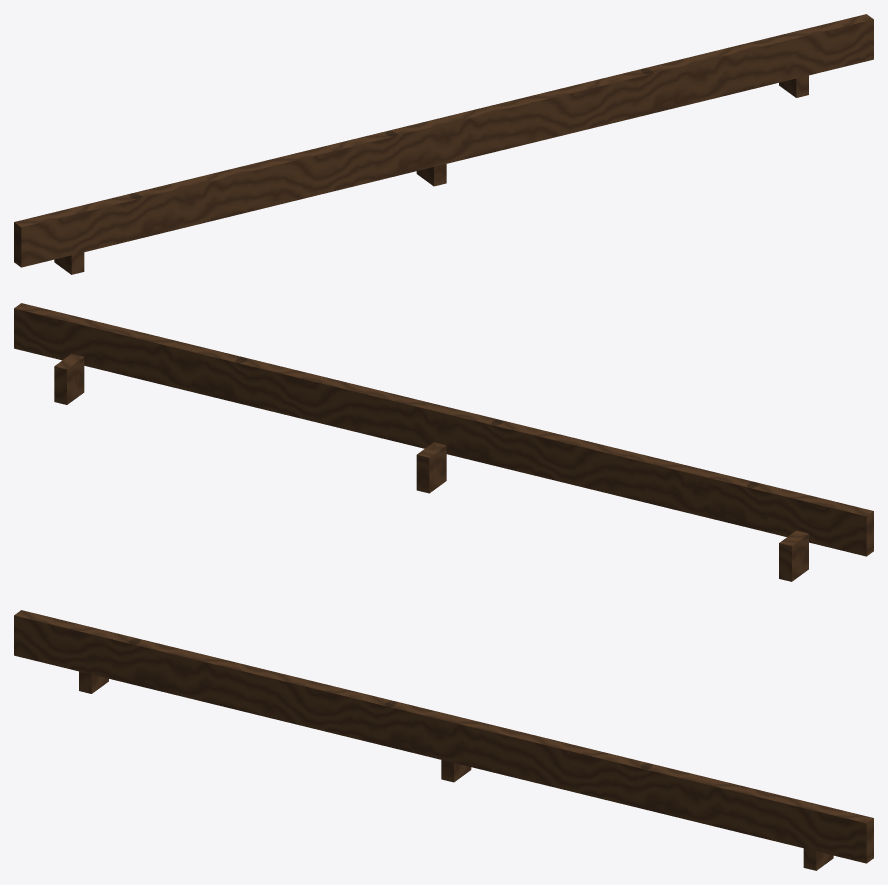
File: eave_trim_4m.glb
The picture shows the model from 3 angles, top to bottom: view 1: azimuth 30°, elevation 25°; view 2: azimuth 150°, elevation 25°; view 3: azimuth 330°, elevation 25°; orthographic projection.
Parts seen in each view (by area): view 1: eave_trim_4m; view 2: eave_trim_4m; view 3: eave_trim_4m.
Part boxes in pixels (left/top/right/bottom): eave_trim_4m: left=14, top=14, right=873, bottom=274; eave_trim_4m: left=14, top=303, right=873, bottom=581; eave_trim_4m: left=14, top=610, right=873, bottom=870.
Bounding box in the file's own units: 4 × 0.3 × 0.2.
Materials: 1 (1 with a texture image).
